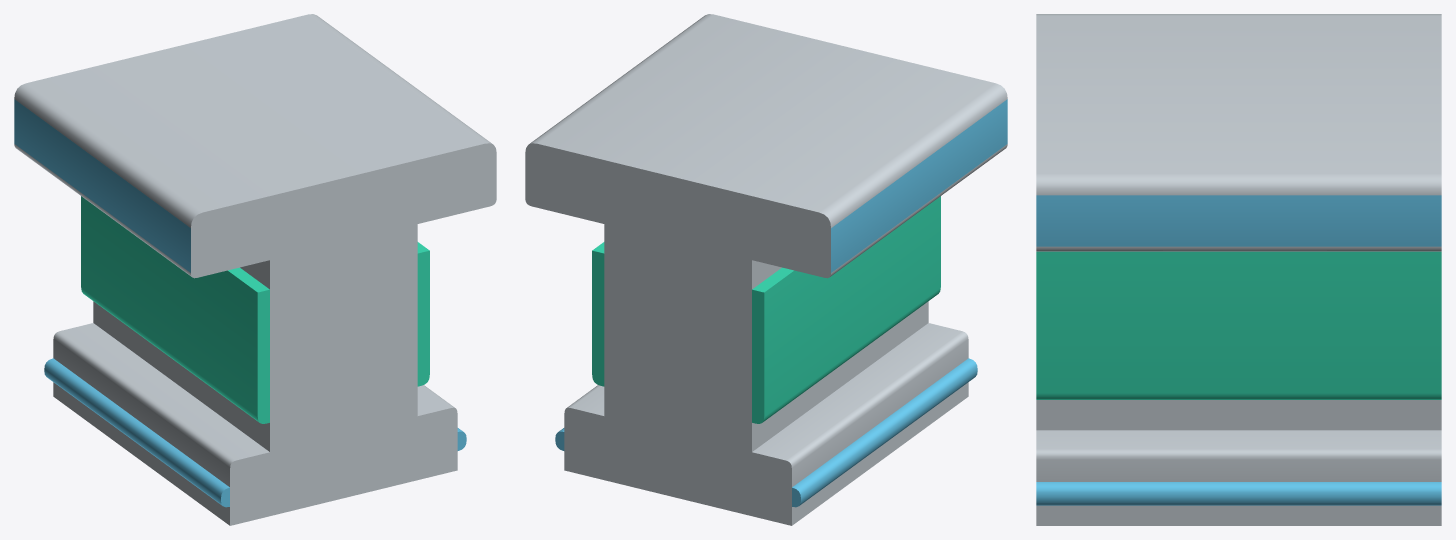
The model's file is Kitchen_Counter_Middle_V1.fbx.
The picture shows the model from 3 angles, left to right: view 1: azimuth 30°, elevation 25°; view 2: azimuth 150°, elevation 25°; view 3: azimuth 270°, elevation 25°; orthographic projection. The views are drawn at different scales.
Parts seen in each view (by area): view 1: Counter_Middle_V1; view 2: Counter_Middle_V1; view 3: Counter_Middle_V1.
Part boxes in pixels (x1,y1,x2,y2): Counter_Middle_V1: [14, 14, 496, 525]; Counter_Middle_V1: [525, 14, 1007, 525]; Counter_Middle_V1: [1036, 14, 1441, 525].
Bounding box in the file's own units: 100 × 100 × 100.
